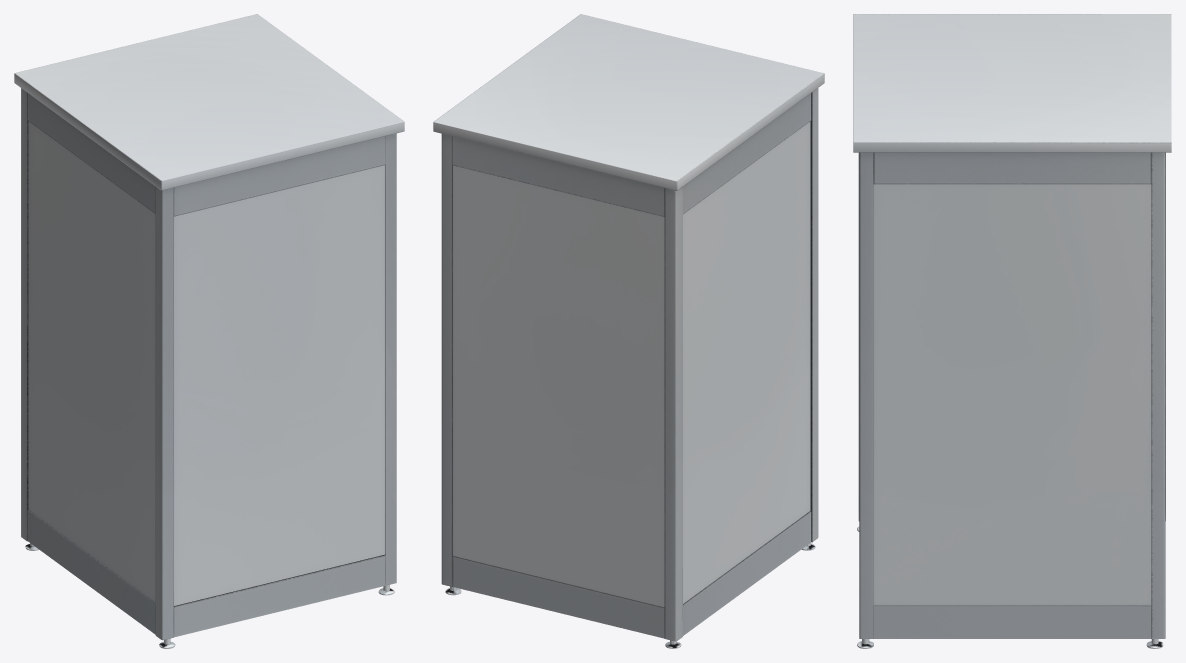
The model's file is bari_corner_ohne_aufsatz_white_aluminium_polished.glb.
3 renders of one model, left to right at view 1: azimuth 30°, elevation 25°; view 2: azimuth 150°, elevation 25°; view 3: azimuth 270°, elevation 25°, orthographic. The views are drawn at different scales.
Parts seen in each view (by area): view 1: bari_corner-white; view 2: bari_corner-white; view 3: bari_corner-white.
Part boxes in pixels (box(x1,y1,x2,y2)): bari_corner-white: box(14, 14, 404, 648); bari_corner-white: box(433, 14, 824, 648); bari_corner-white: box(853, 14, 1171, 648).
Bounding box in the file's own units: 0.5303 × 0.9815 × 0.5557.
1 material, 1 textured.
